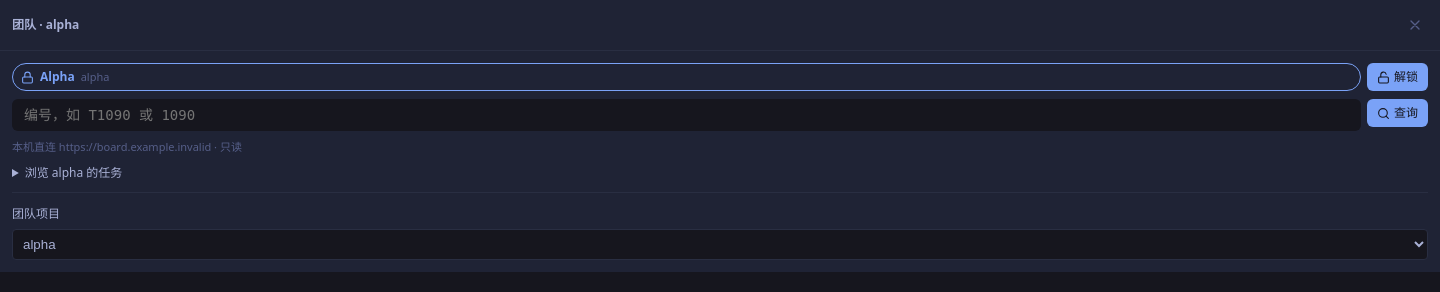
it: changes the task lock with the actual team selector while retaining each team choice
Expected: the text "Alpha" is shown, [40,68,75,86]
Click the button "解锁" at point(1398, 77), box [1367,63,1428,91]
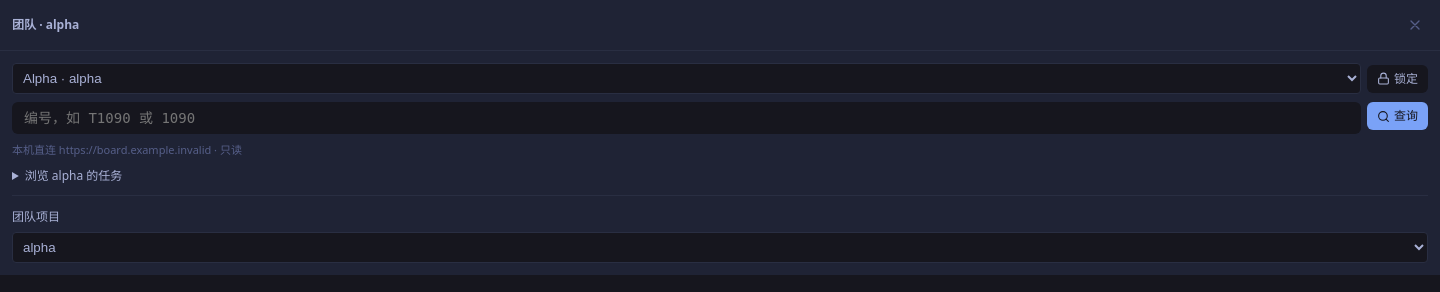
Select "Shared · shared" in the dropdown named "查询项目" at point(686, 78), box [12,63,1361,94]
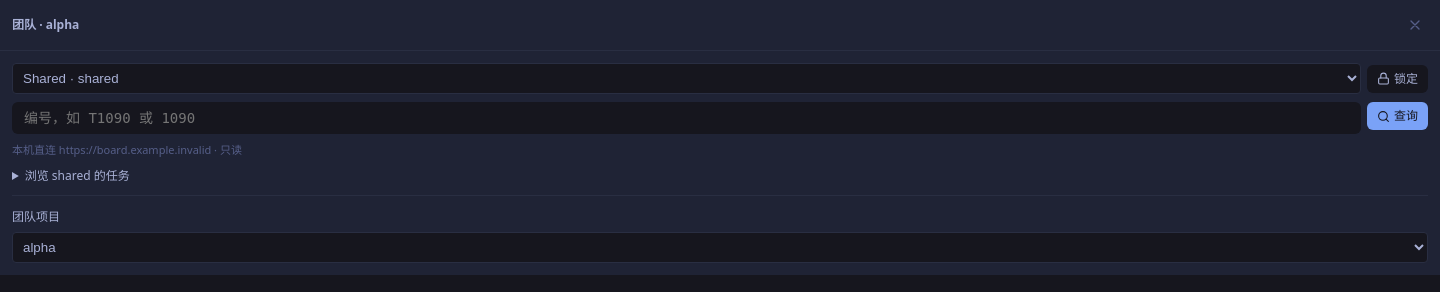
Click the button "锁定" at point(1398, 78), box [1367,64,1428,92]
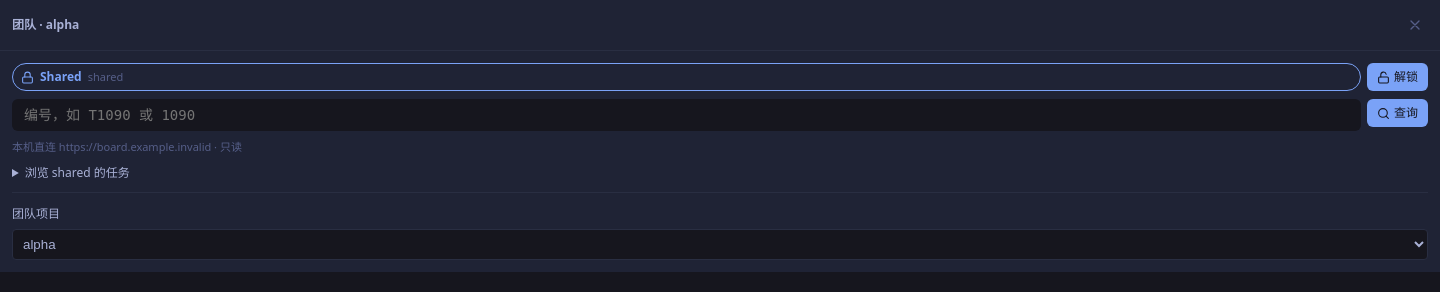
Select "beta" in the dropdown labelled "团队项目" at point(720, 244), box [12,228,1428,260]
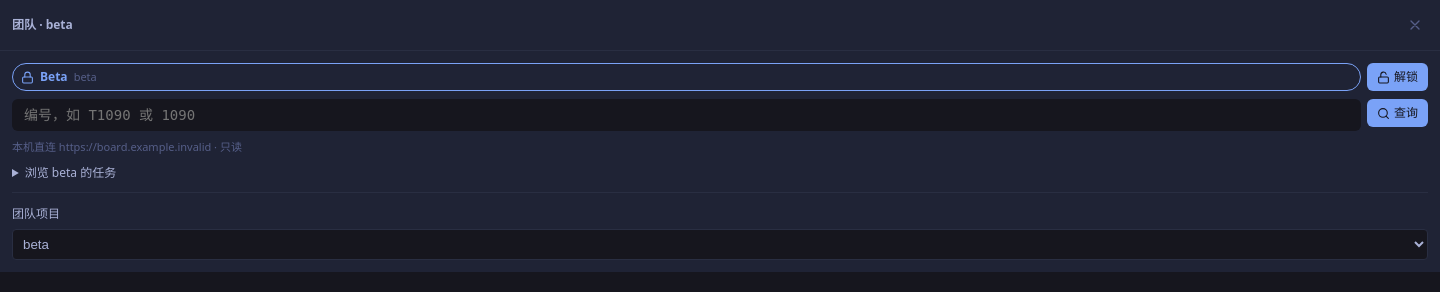
Now the text "Beta" is shown, box [40,68,68,86]
Now the text "beta" is shown, box [74,69,97,85]
Select "alpha" in the dropdown labelled "团队项目" at point(720, 244), box [12,228,1428,260]
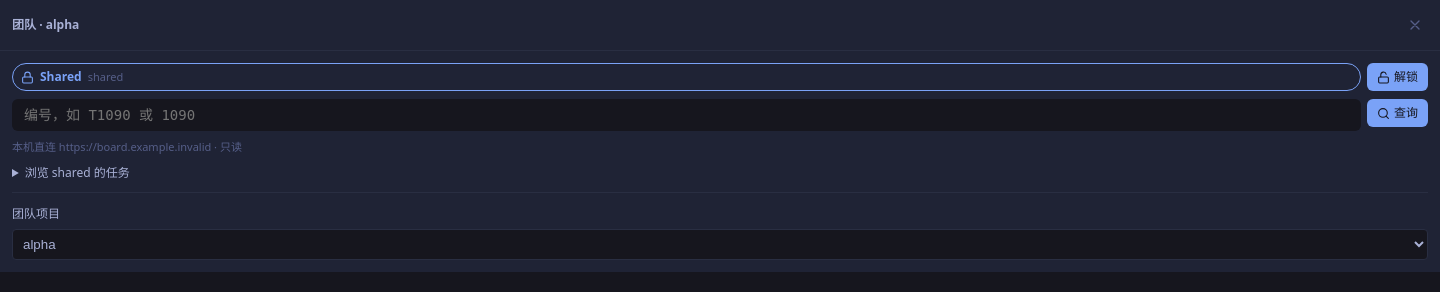
Now the text "Shared" is shown, box [40,68,82,86]
